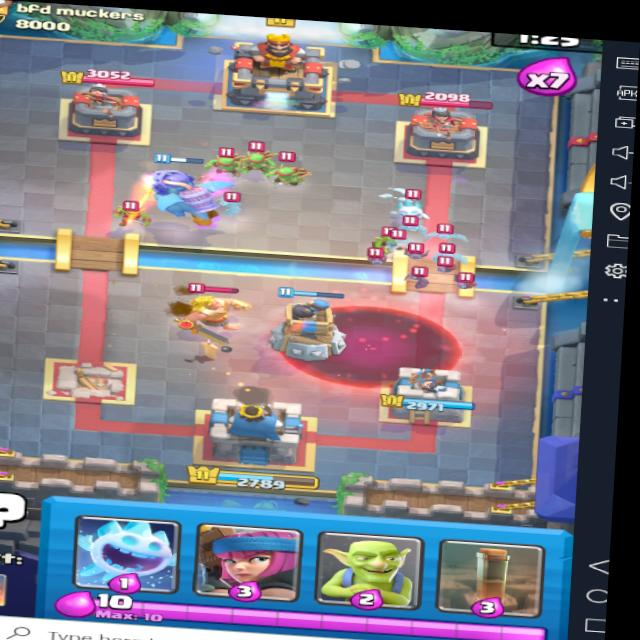Bat: (425, 252, 457, 280), (395, 268, 434, 290), (453, 267, 488, 290), (360, 248, 391, 267), (402, 245, 431, 262)
Goblin: (111, 196, 152, 234)
Goldenknight: (163, 280, 252, 345)
Icespirit: (389, 188, 431, 225)
Speargoblin: (265, 153, 316, 189), (199, 138, 239, 180), (236, 138, 277, 173)
Void: (285, 296, 462, 391)
